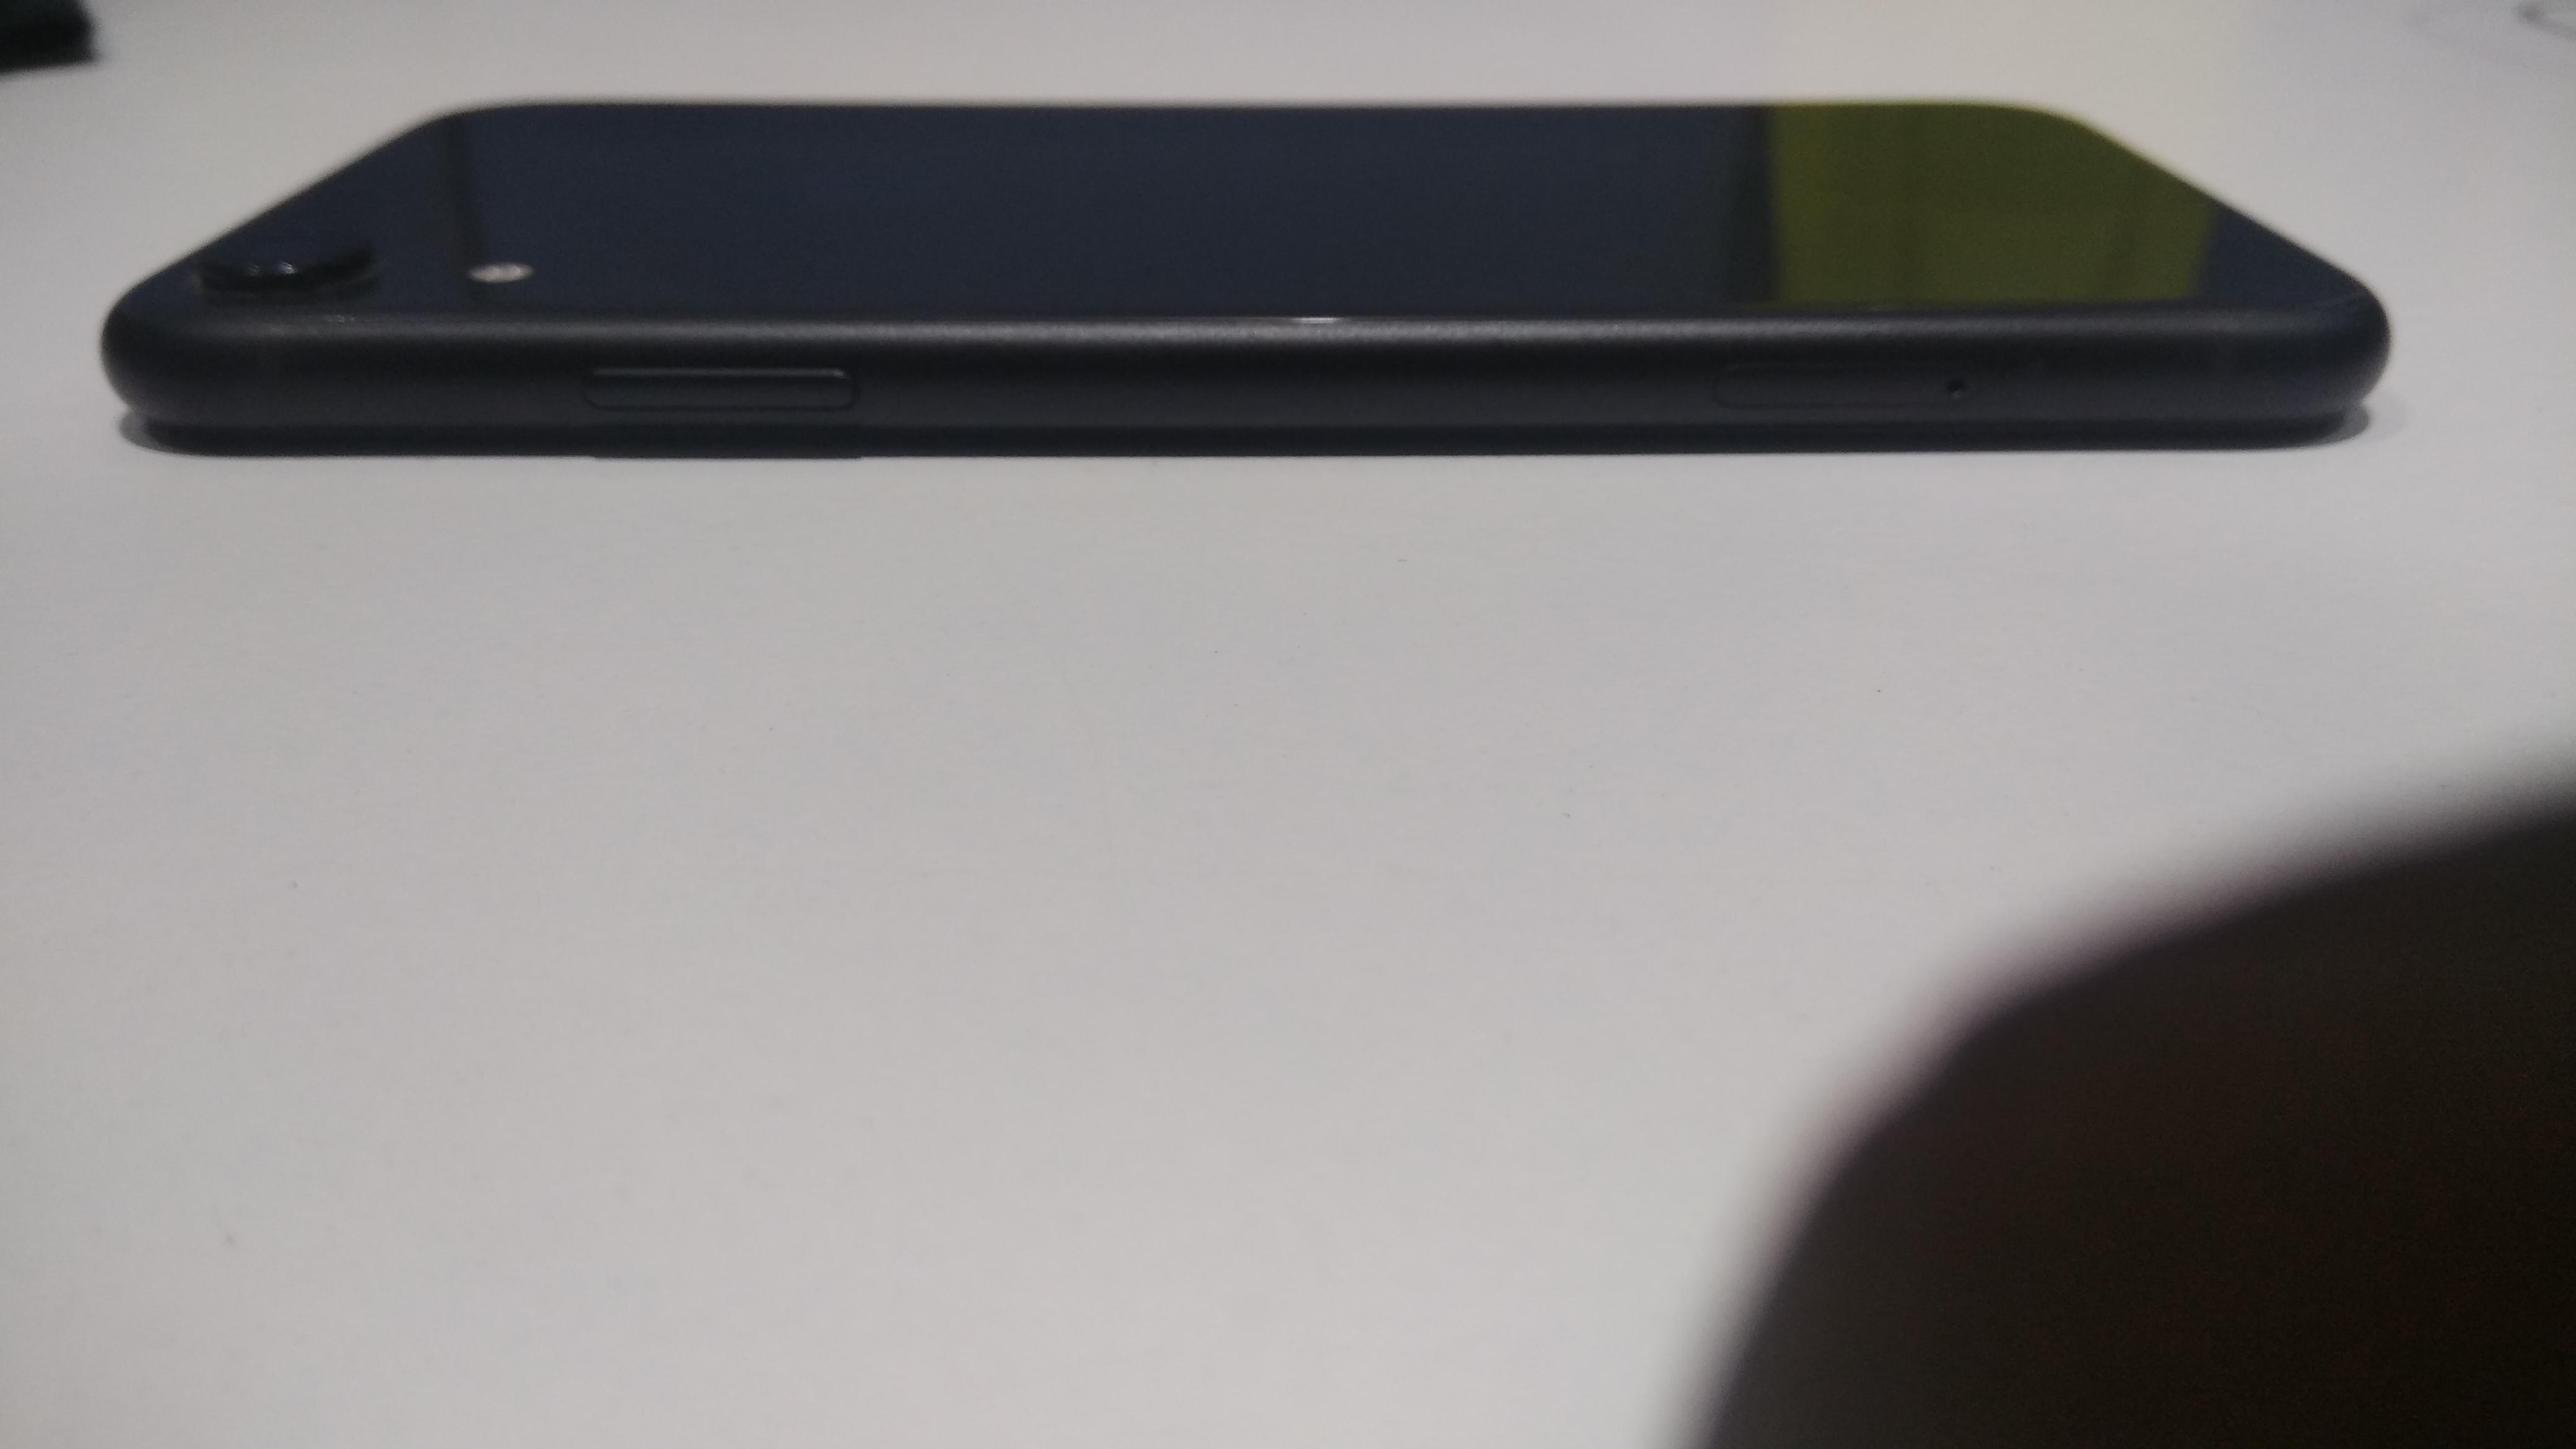Phone: (71, 46, 2470, 499)
